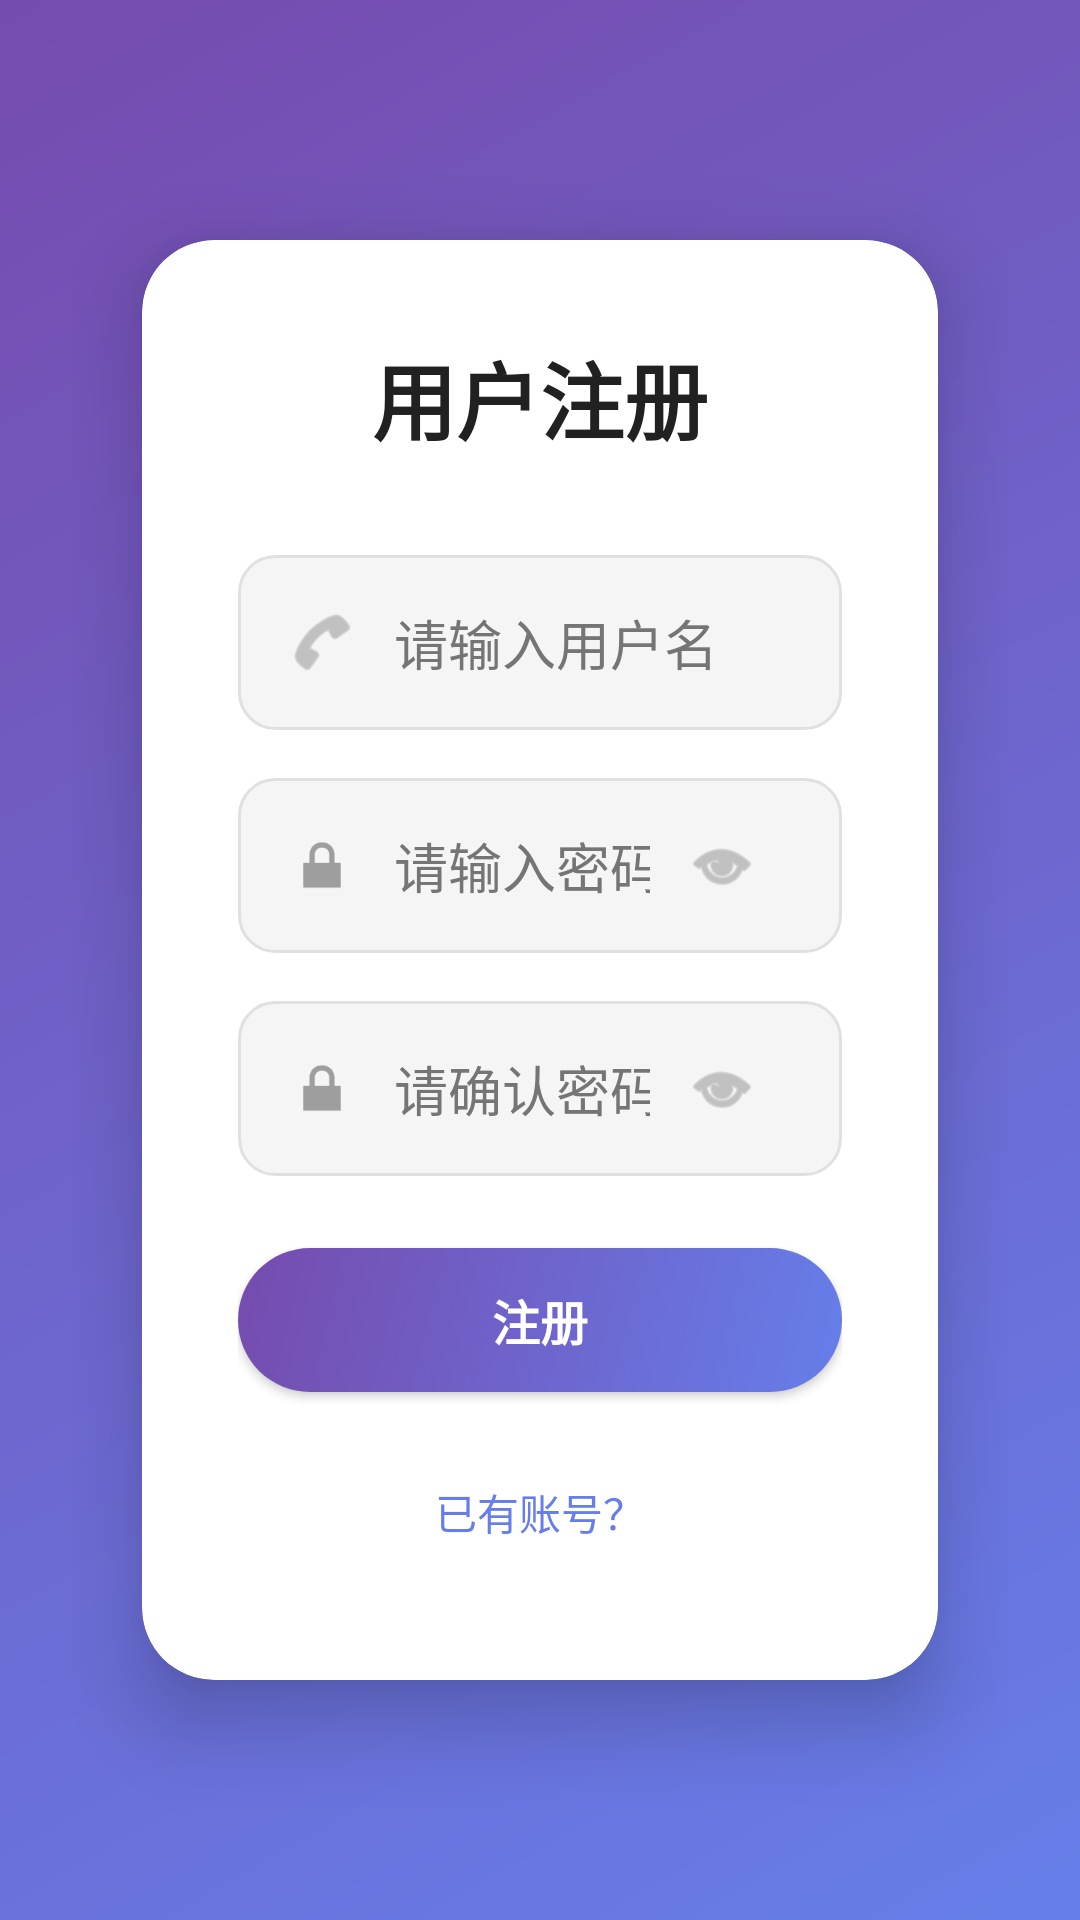

Screen size 1080*1920. Icon name, then its box in pixels as [x1, y1, x2, y2]:
call: [295, 615, 350, 670]
lock: [303, 842, 341, 888], [303, 1065, 341, 1111]
显示或隐藏密码: [693, 849, 751, 885]
显示或隐藏确认密码: [693, 1072, 751, 1108]
